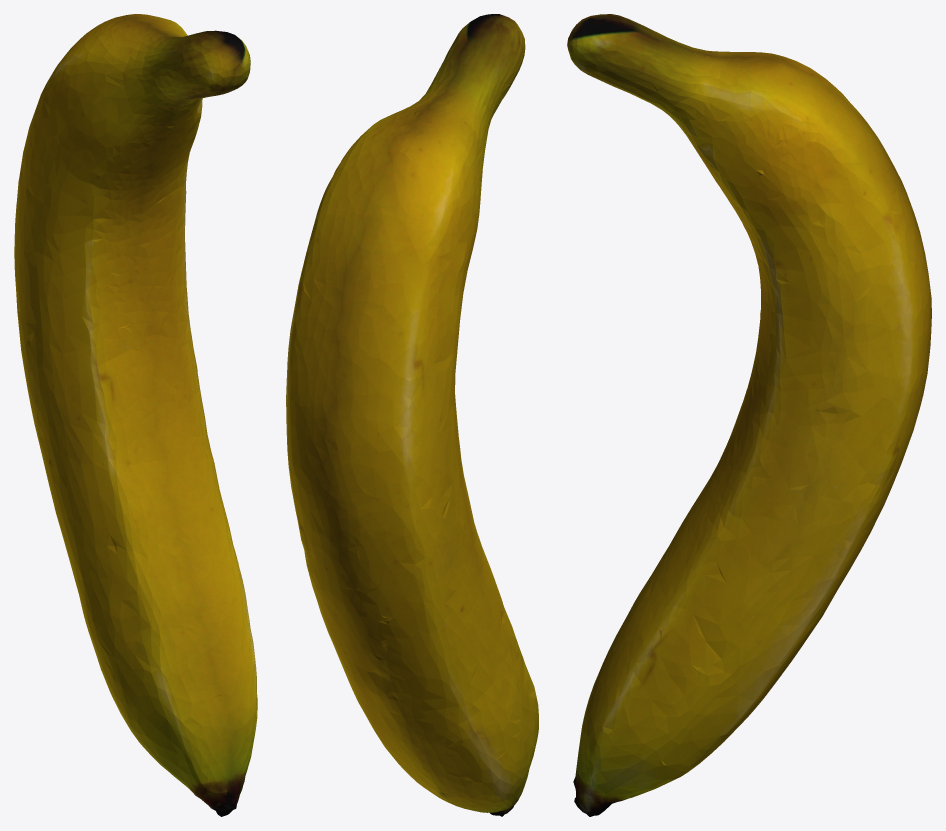
File: Scan.obj
3 views of the same model, side by side, from view 1: azimuth 30°, elevation 25°; view 2: azimuth 150°, elevation 25°; view 3: azimuth 270°, elevation 25° (orthographic). The views are drawn at different scales.
Parts seen in each view (by area): view 1: Scan.002; view 2: Scan.002; view 3: Scan.002.
Part boxes in pixels (left/top/right/bottom): Scan.002: left=14, top=14, right=257, bottom=816; Scan.002: left=286, top=14, right=538, bottom=816; Scan.002: left=567, top=14, right=931, bottom=816.
Size of the model in its own units: 0.0377 by 0.1956 by 0.0809.
Materials: 1 (1 with a texture image).
